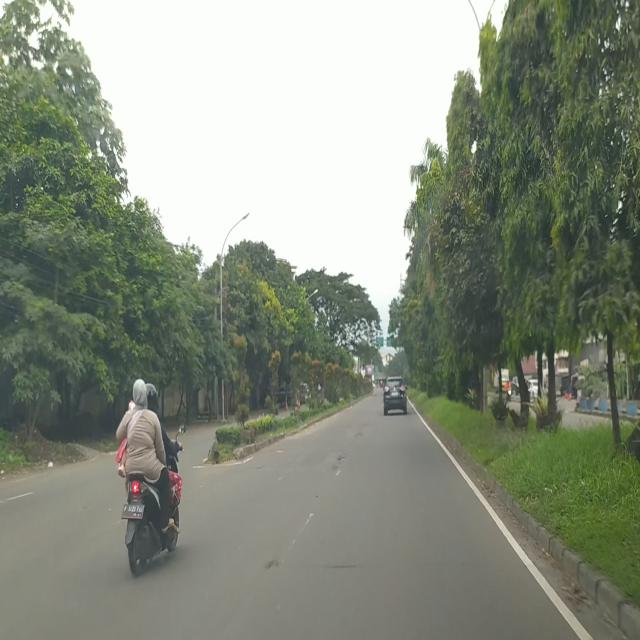Sewer Cover: (322, 563, 364, 572)
